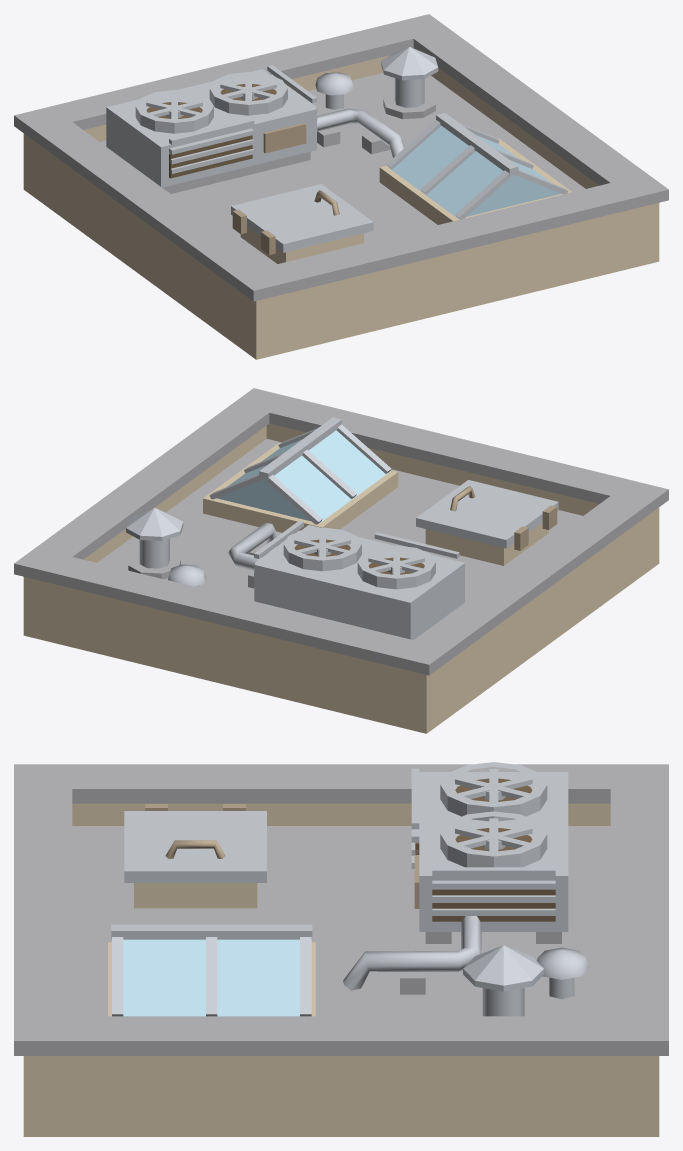
The model's file is building.roofdeck.glb.
3 views of the same model, one above another, from view 1: azimuth 30°, elevation 25°; view 2: azimuth 150°, elevation 25°; view 3: azimuth 270°, elevation 25° (orthographic). The views are drawn at different scales.
Parts seen in each view (by area): view 1: Stone, Paint, Metal, Glass, PaintDark, Door; view 2: Stone, Paint, Metal, Glass, PaintDark; view 3: Stone, Paint, Metal, Glass, Door, PaintDark.
Boxes of the visible parts, x1,y1,x2,y2 form: Stone: (14, 14, 668, 301); Paint: (23, 55, 659, 359); Metal: (106, 47, 568, 252); Glass: (390, 126, 560, 218); PaintDark: (232, 123, 339, 254); Door: (146, 84, 276, 178); Stone: (14, 388, 668, 675); Paint: (23, 423, 659, 733); Metal: (126, 417, 558, 639); Glass: (217, 430, 387, 523); PaintDark: (450, 486, 557, 550); Stone: (14, 764, 668, 1055); Paint: (23, 803, 659, 1136); Metal: (111, 762, 589, 1016); Glass: (123, 939, 299, 1016); Door: (415, 778, 555, 921); PaintDark: (145, 804, 419, 908).
Bounding box in the file's own units: 2.02 × 0.49 × 2.02.
